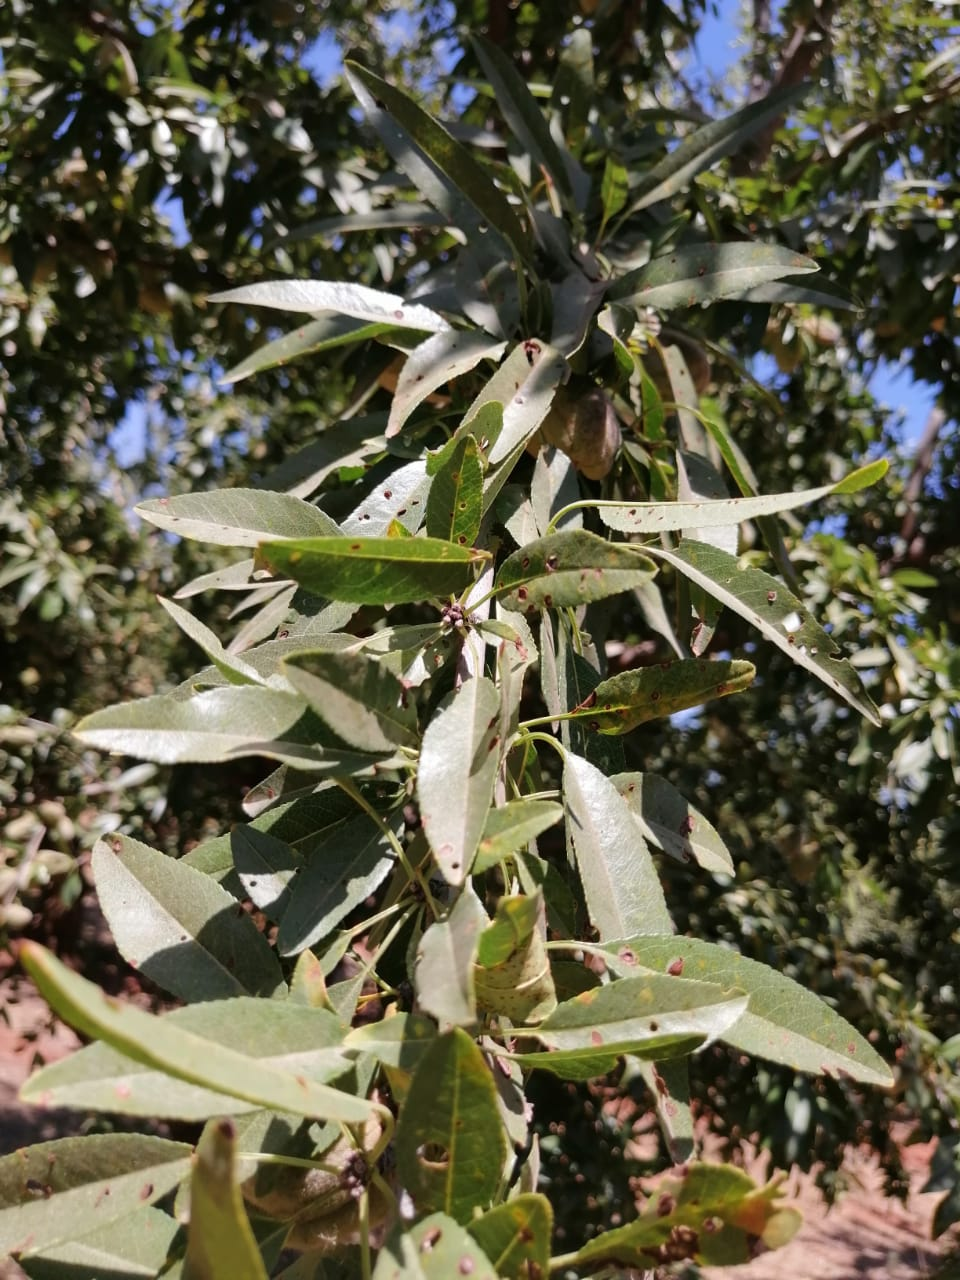coryneum: (602, 934, 898, 1091), (649, 538, 883, 727), (279, 458, 445, 641), (536, 973, 752, 1057), (492, 527, 659, 607), (424, 433, 488, 546)
